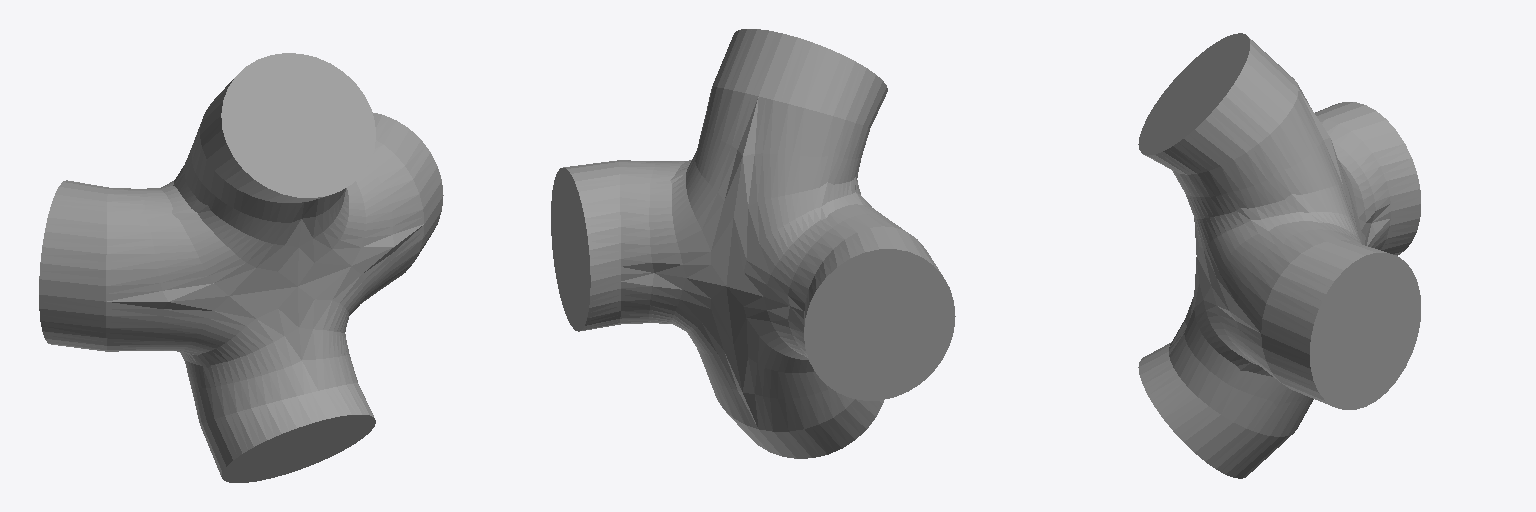
The model's file is pipe2.obj.
3 renders of one model, left to right at view 1: azimuth 30°, elevation 25°; view 2: azimuth 150°, elevation 25°; view 3: azimuth 270°, elevation 25°, orthographic.
Visible parts, largest first — view 1: Cylinder_Cylinder.000; view 2: Cylinder_Cylinder.000; view 3: Cylinder_Cylinder.000.
Boxes of the visible parts, box(x1,y1,x2,y2) form: Cylinder_Cylinder.000: box(39, 53, 443, 482); Cylinder_Cylinder.000: box(551, 29, 955, 458); Cylinder_Cylinder.000: box(1138, 33, 1420, 478).
Size of the model in its own units: 1.8 by 1.8 by 1.09.